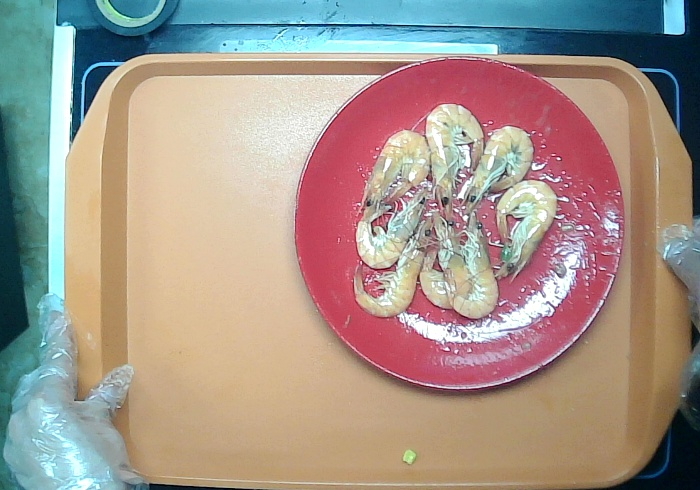HZYJPL-Hong_Se_Yuan_Pan: (293, 54, 627, 395)
